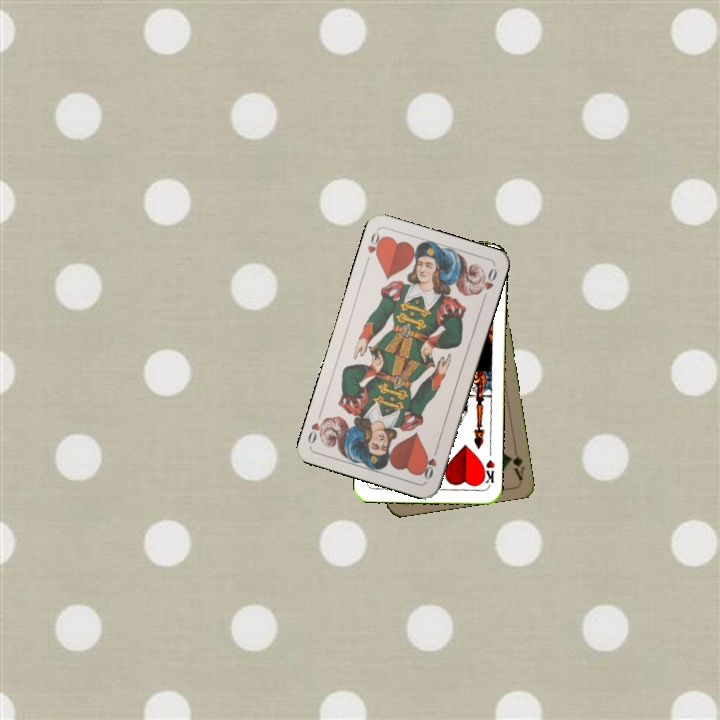GA: (505, 442, 527, 482)
HK: (478, 456, 497, 488)
HO: (362, 227, 386, 267), (419, 443, 440, 482)
